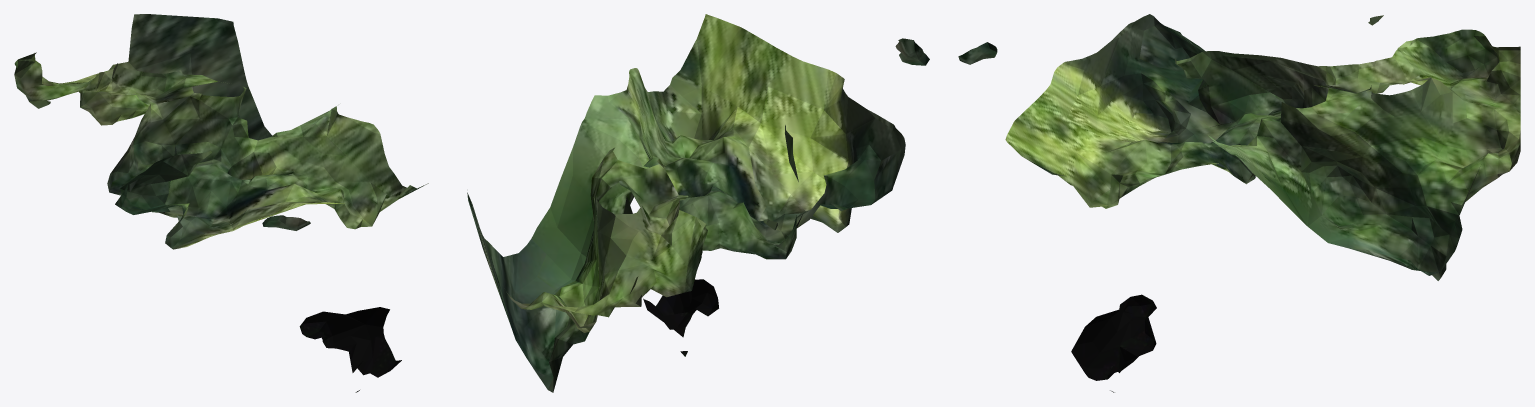
3 views of the same model, side by side, from view 1: azimuth 30°, elevation 25°; view 2: azimuth 150°, elevation 25°; view 3: azimuth 270°, elevation 25° (orthographic). The views are drawn at different scales.
Size of the model in its own units: 13.31 by 13.12 by 24.68.
2 materials, 2 textured.
